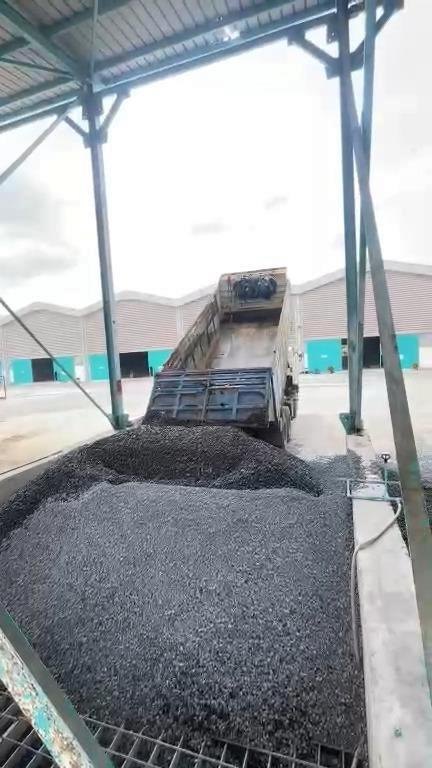gravel: (1, 448, 369, 750), (1, 421, 323, 532), (422, 455, 432, 530)
sand: (1, 431, 38, 473)
